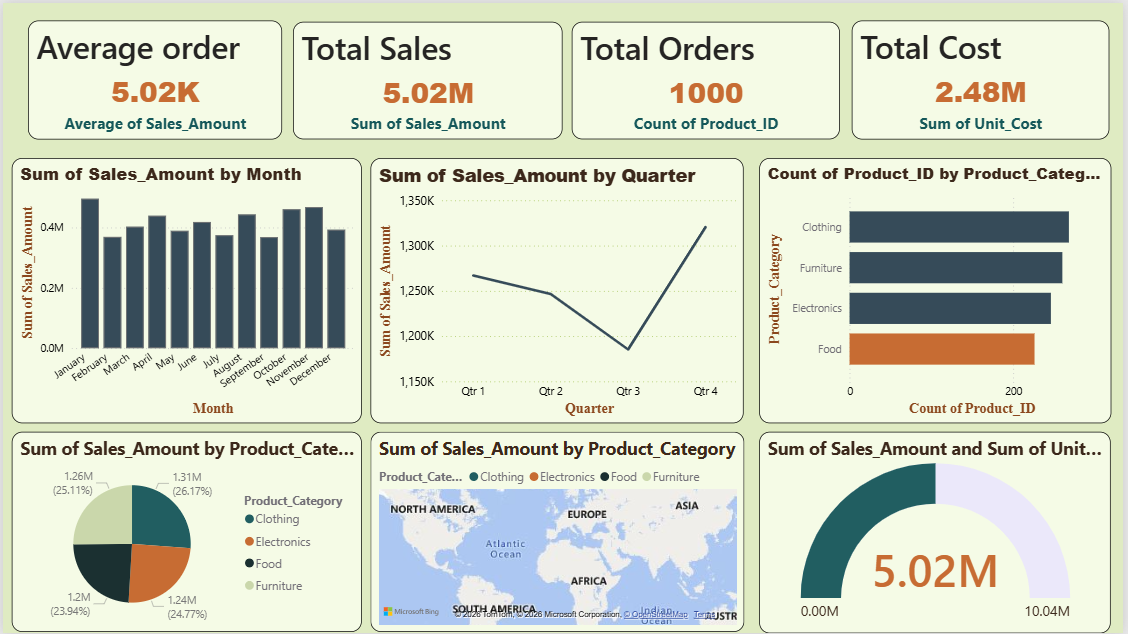

The dashboard page shown, as its layout file describes it:
{"tool":"powerbi","page":{"name":"Page 1","canvas":[1280,720],"ordinal":0},"visuals":[{"type":"card","title":"Average order","fields":{"Values":["Avg(sales_data.Sales_Amount)"]},"box":[28,20,290,136],"z":0},{"type":"card","title":"Total Orders","fields":{"Values":["CountNonNull(sales_data.Product_ID)"]},"box":[650,22,306,134],"z":1000},{"type":"columnChart","fields":{"Y":["Sum(sales_data.Sales_Amount)"],"Category":["sales_data.Sale_Date.Variation.Date Hierarchy.Month"]},"box":[10,177.8,400,303.3],"z":2000},{"type":"pieChart","fields":{"Y":["Sum(sales_data.Sales_Amount)"],"Series":["sales_data.Product_Category"]},"box":[10.3,489.6,399.7,228.8],"z":3000},{"type":"gauge","fields":{"Y":["Sum(sales_data.Sales_Amount)"]},"box":[864.3,490,401.4,230],"z":4000},{"type":"filledMap","fields":{"Series":["sales_data.Product_Category"]},"box":[420,490,427.1,228.6],"z":5000},{"type":"card","title":"     Total Cost","fields":{"Values":["Sum(sales_data.Unit_Cost)"]},"box":[970,20,294,136],"z":6000},{"type":"card","title":"Total Sales","fields":{"Values":["Sum(sales_data.Sales_Amount)"]},"box":[332,22,308,134],"z":7000},{"type":"clusteredBarChart","fields":{"Y":["CountNonNull(sales_data.Product_ID)"],"Category":["sales_data.Product_Category"]},"box":[864.4,177.8,402.2,303.3],"z":8000},{"type":"lineChart","fields":{"Y":["Sum(sales_data.Sales_Amount)"],"Category":["sales_data.Sale_Date.Variation.Date Hierarchy.Quarter"]},"box":[420,177.8,426.7,303.3],"z":9000}]}

Visuals, with their boxes in screenshot pixels (x1, y1, x2, y2), scaled from the page's 1280x720 canvas onto the 1128x634 screenshot:
"Average order" card: (25,18,280,137)
"Total Orders" card: (573,19,842,137)
columnChart - Sum(sales_data.Sales_Amount) x sales_data.Sale_Date.Variation.Date Hierarchy.Month: (9,157,361,424)
pieChart - Sum(sales_data.Sales_Amount) x sales_data.Product_Category: (9,431,361,633)
gauge - Sum(sales_data.Sales_Amount): (762,431,1115,633)
filledMap - sales_data.Product_Category: (370,431,747,633)
"     Total Cost" card: (855,18,1114,137)
"Total Sales" card: (293,19,564,137)
clusteredBarChart - CountNonNull(sales_data.Product_ID) x sales_data.Product_Category: (762,157,1116,424)
lineChart - Sum(sales_data.Sales_Amount) x sales_data.Sale_Date.Variation.Date Hierarchy.Quarter: (370,157,746,424)
